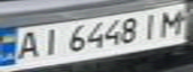4: (84, 19, 109, 51), (103, 16, 127, 47)
6: (63, 21, 90, 53)
8: (118, 15, 142, 45)
A: (9, 29, 45, 62)
I: (33, 26, 66, 57), (136, 10, 163, 40)
M: (154, 6, 190, 38)
